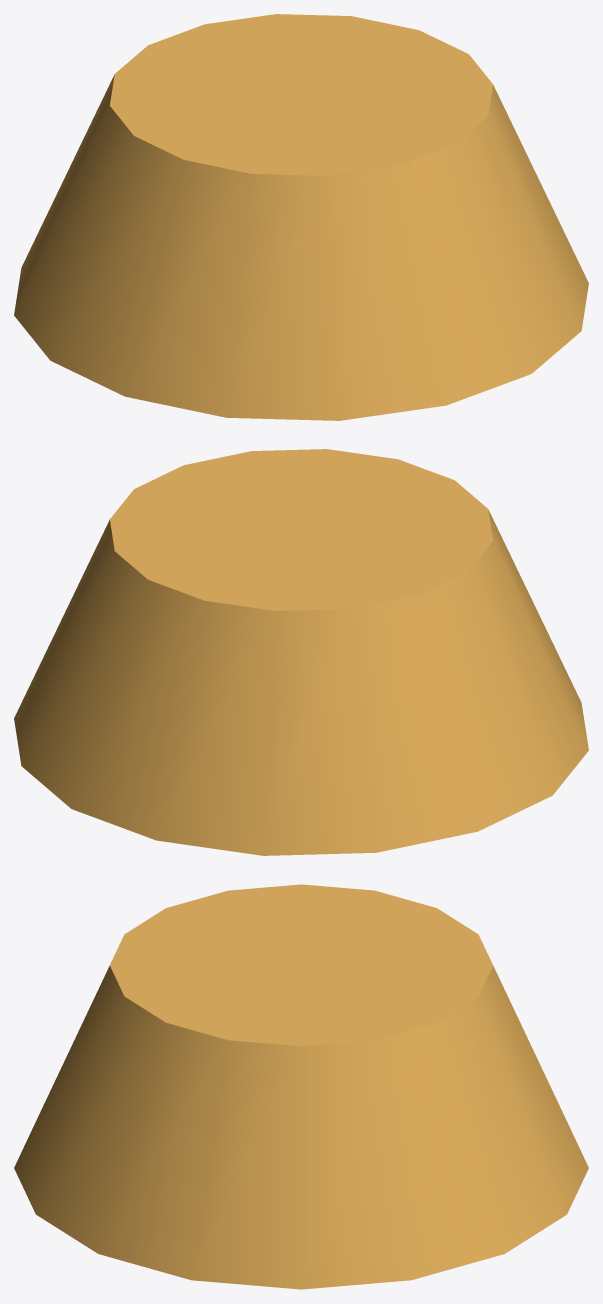
Rendered from prop-hall-spotlight.glb.
The picture shows the model from 3 angles, top to bottom: view 1: azimuth 30°, elevation 25°; view 2: azimuth 150°, elevation 25°; view 3: azimuth 270°, elevation 25°; orthographic projection.
Visible parts, largest first — view 1: spotlight; view 2: spotlight; view 3: spotlight.
Boxes of the visible parts, x1=… form: spotlight: x1=14, y1=14, x2=588, y2=420; spotlight: x1=14, y1=449, x2=588, y2=855; spotlight: x1=14, y1=884, x2=588, y2=1289.
Bounding box in the file's own units: 0.9 × 0.395 × 0.9.
